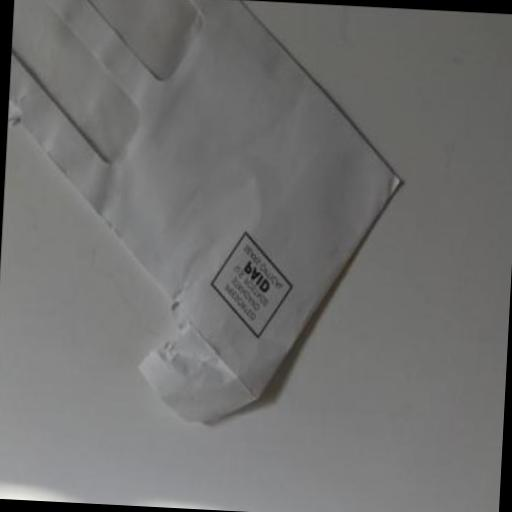paper: (0, 0, 407, 434)
